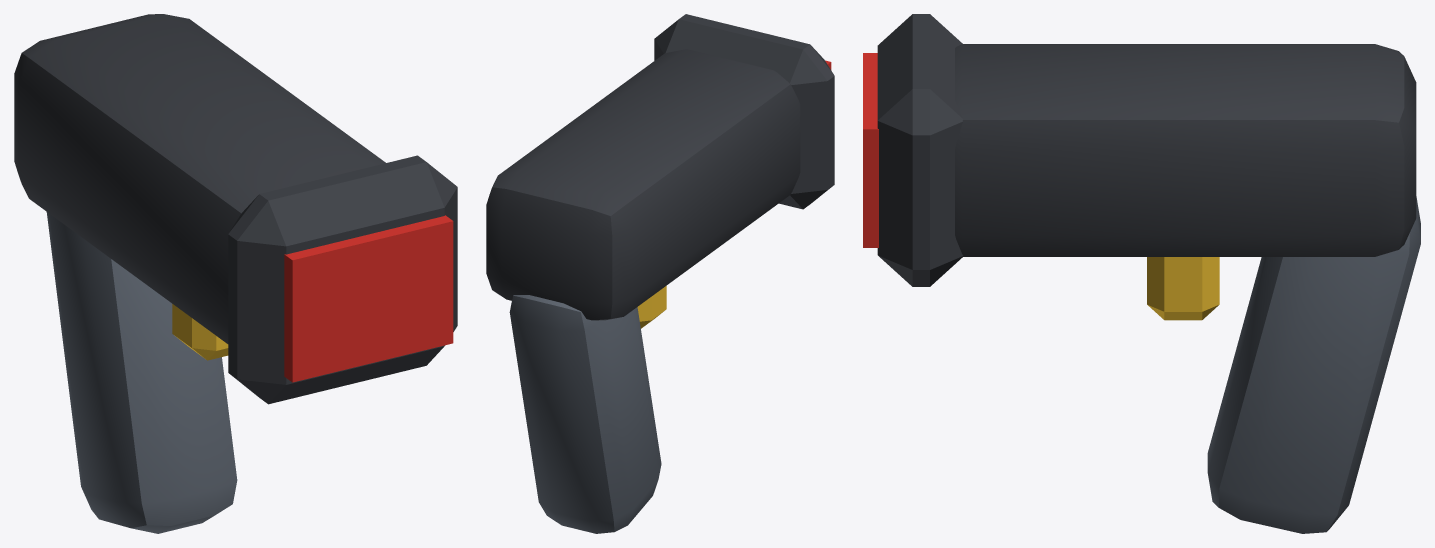
The model's file is barcode_scanner.glb.
The picture shows the model from 3 angles, left to right: view 1: azimuth 30°, elevation 25°; view 2: azimuth 150°, elevation 25°; view 3: azimuth 270°, elevation 25°; orthographic projection. The views are drawn at different scales.
Visible parts, largest first — view 1: barcode_scanner; view 2: barcode_scanner; view 3: barcode_scanner.
Part boxes in pixels (<box>): barcode_scanner: <box>14,14,457,533</box>; barcode_scanner: <box>486,14,834,533</box>; barcode_scanner: <box>863,14,1420,533</box>.
Size of the model in its own units: 0.085 by 0.1782 by 0.1916.
